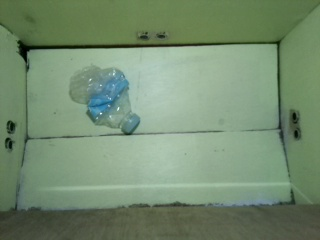damaged-bottle: (69, 62, 141, 136)
